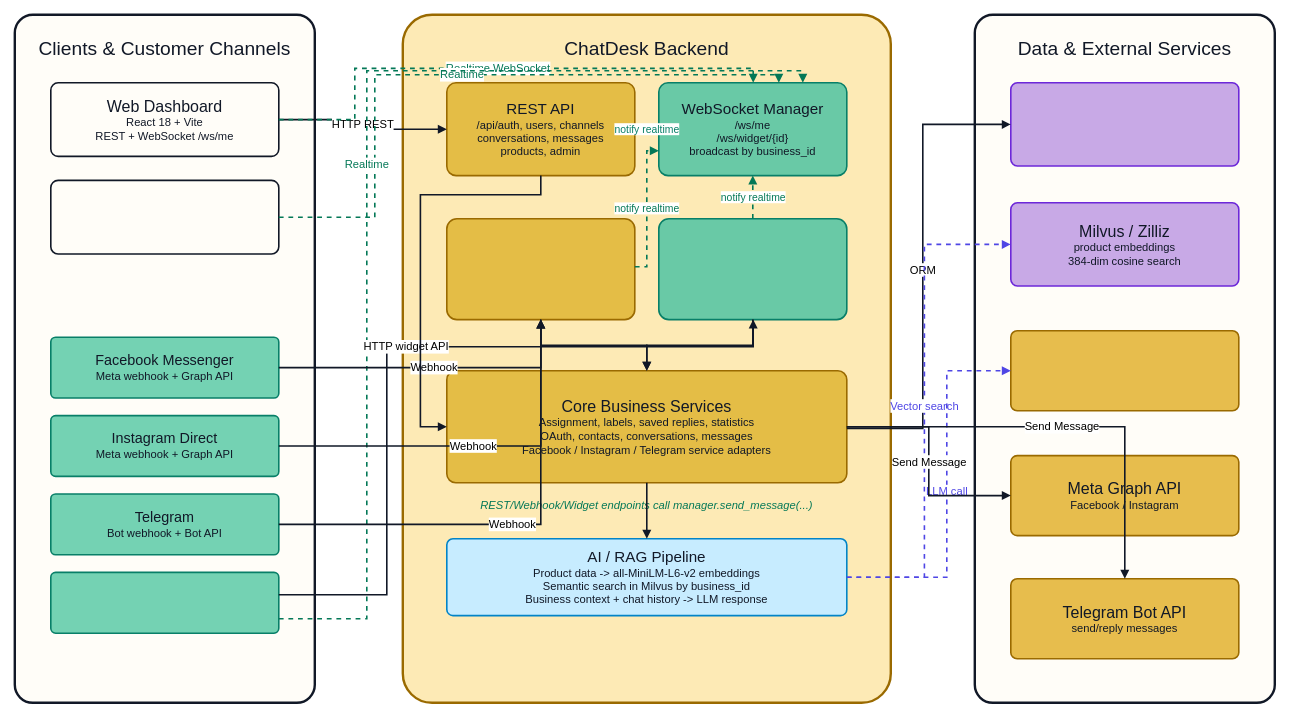
Some shapes in this 1290 by 718 pixel diagram are drawn without their labels. Each missing label, with the centre of its shape:
"LLM Provider Groq or OpenAI" goes at point 1124,370.
"Mobile App Expo / React Native WebSocket /ws/me" goes at point 164,216.
"PostgreSQL Railway database users, channels, messages..." goes at point 1124,124.
"Webhook Handlers /api/webhooks/meta /facebook, /instagram /telegram/{bot_id}" goes at point 540,269.
"Website Widget Embedded customer chat" goes at point 164,602.
"Widget API /api/widgets/send history, messages public widget auth" goes at point 752,269.
